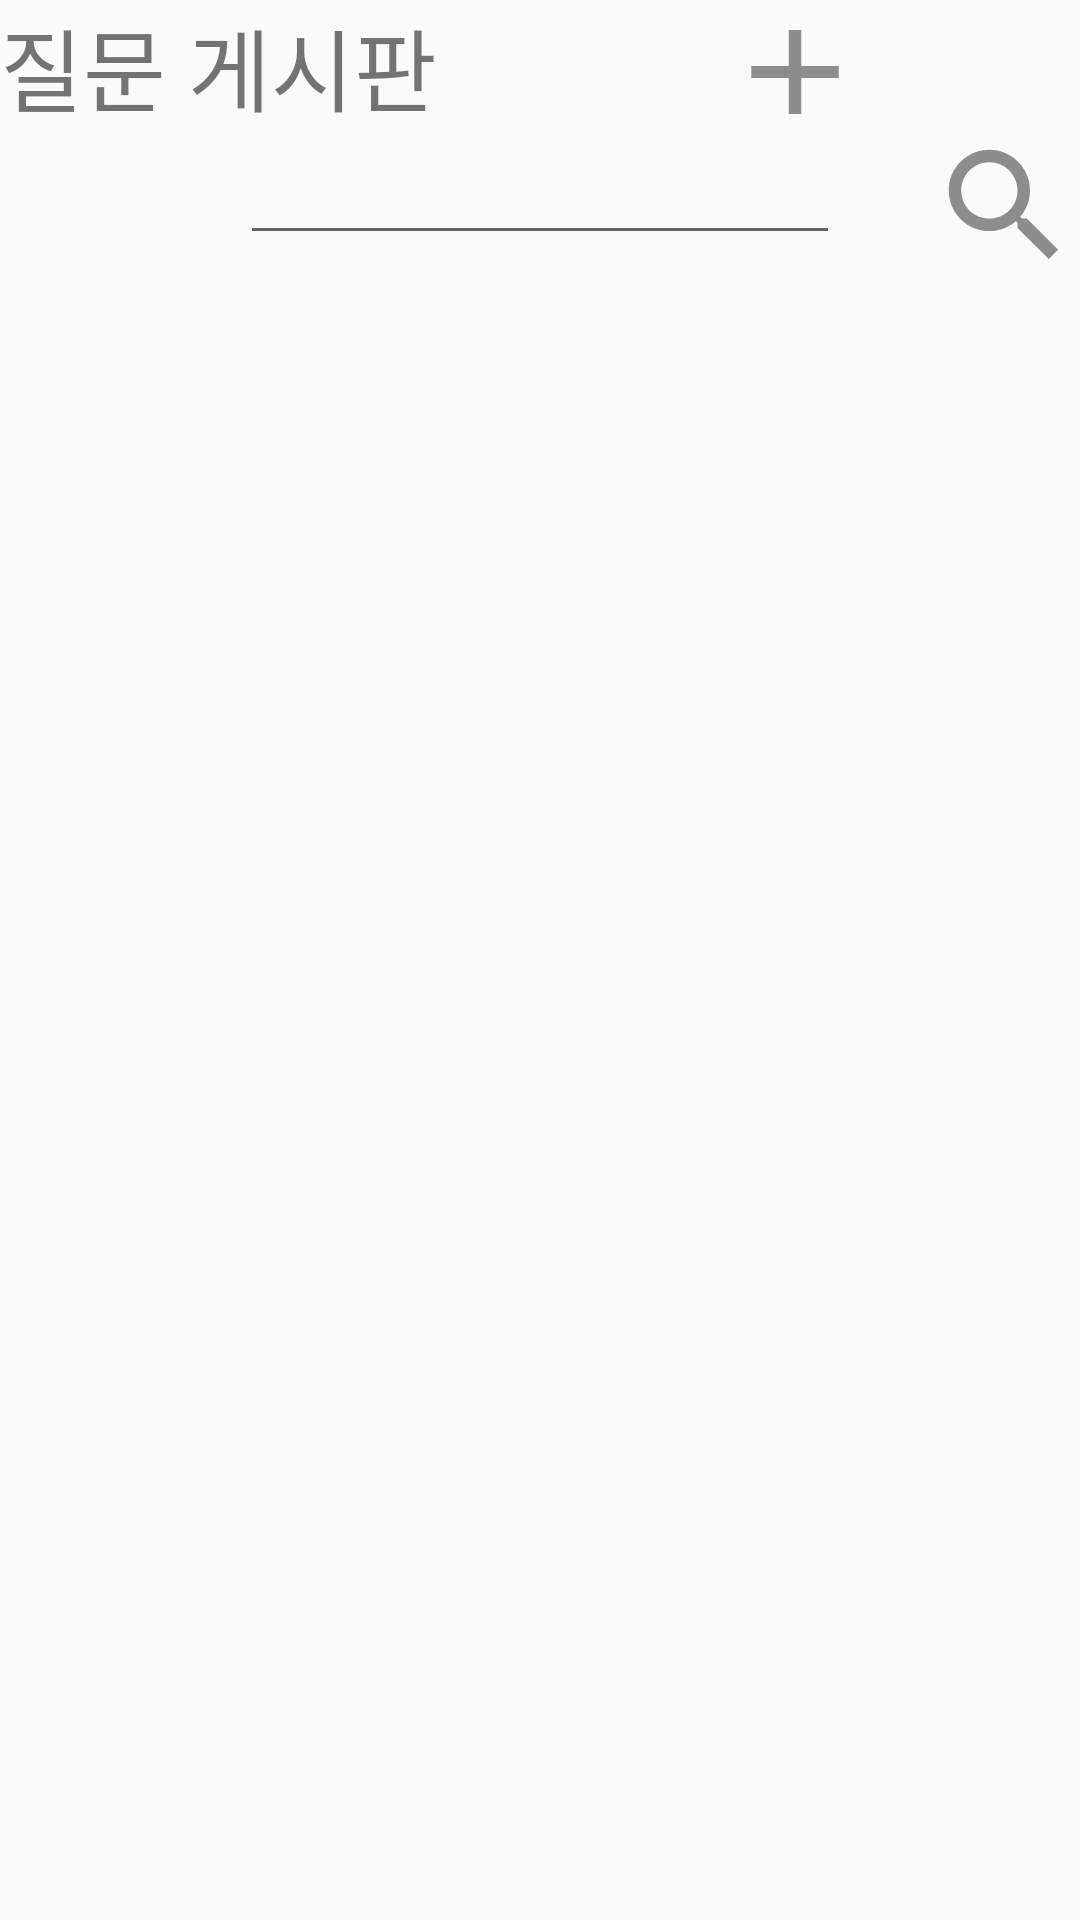

Where icons sit on this 1080 x 1920 app screen, as (x1, y1, x2, y2):
add: (751, 30, 839, 114)
search: (948, 149, 1058, 259)
